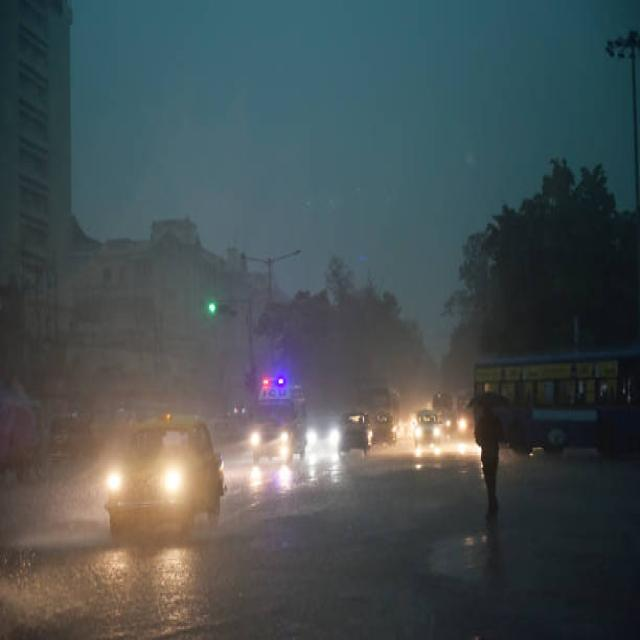ambulance: (250, 372, 312, 476), (261, 378, 290, 403)
